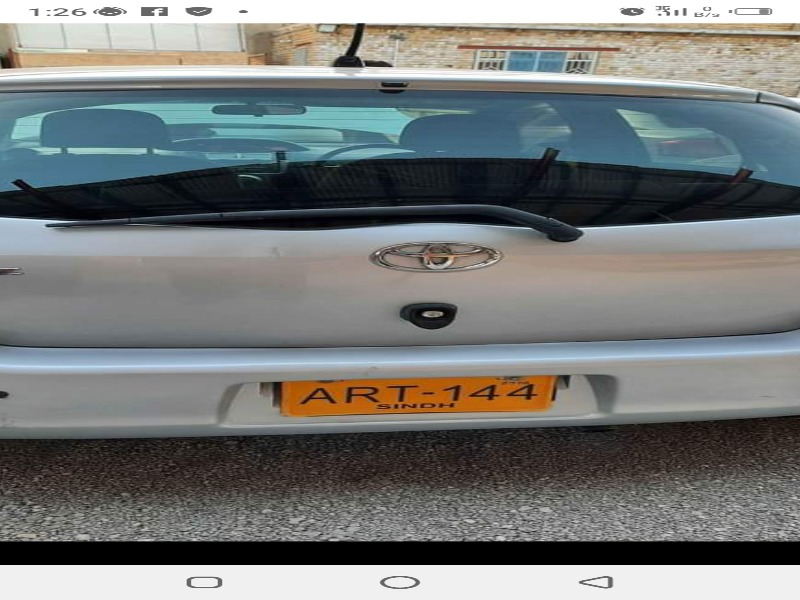License Plate: (278, 374, 560, 422)
